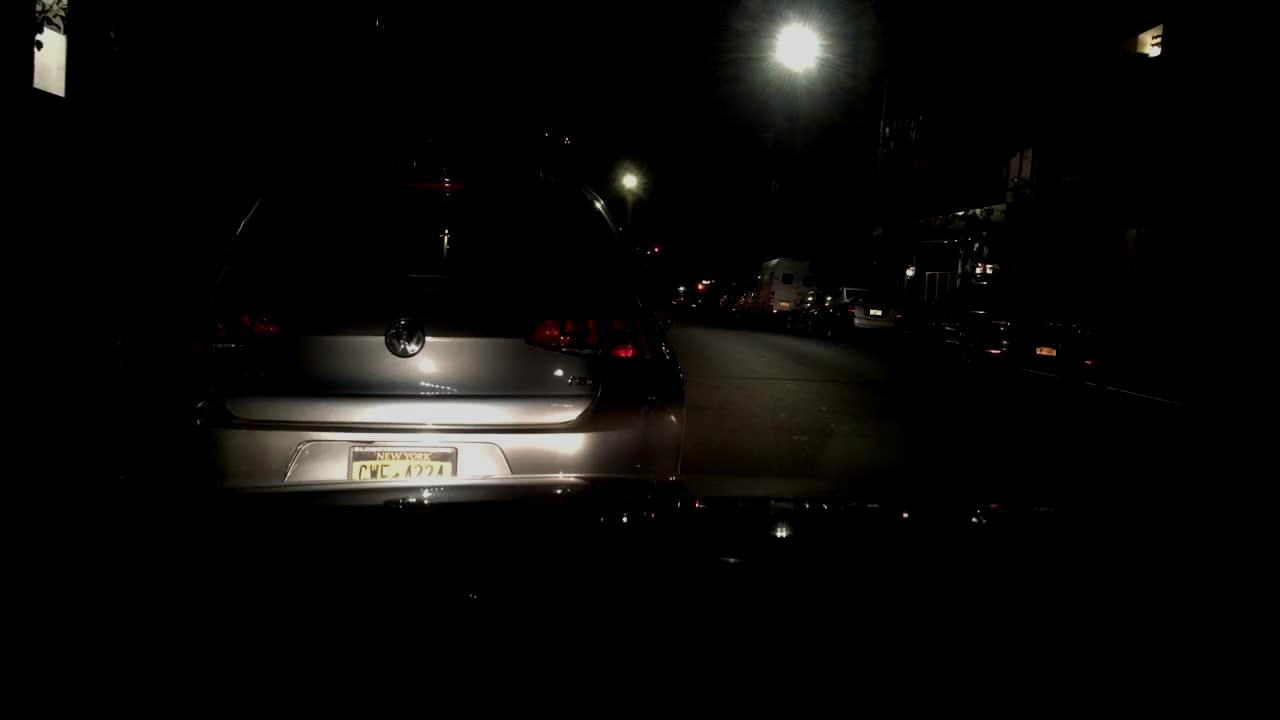Volkswagen: (378, 311, 428, 364)
